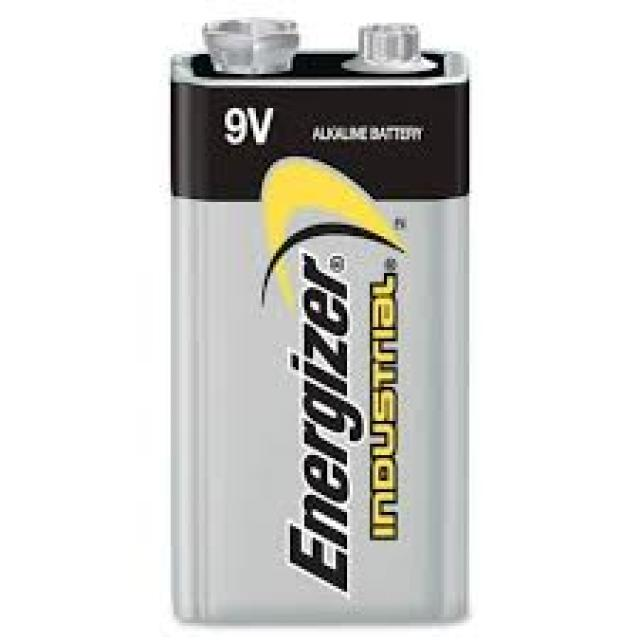Battery: (167, 21, 481, 620)
